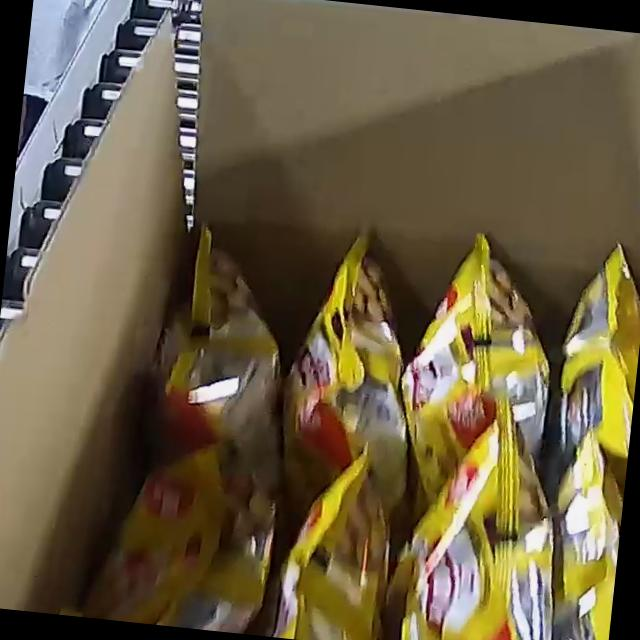salted: (34, 181, 640, 640)
